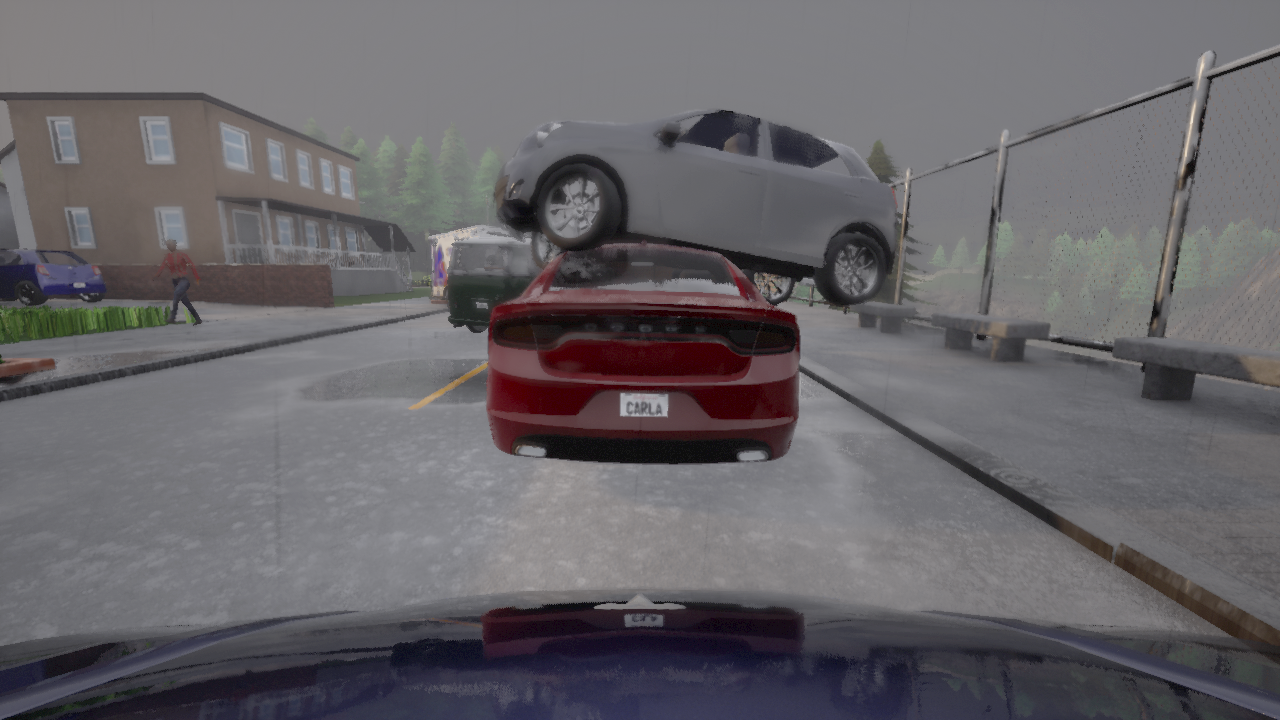cyclist: (0, 588, 1279, 719), (493, 108, 896, 305), (487, 237, 800, 463), (448, 238, 542, 331), (429, 226, 532, 308), (0, 248, 106, 305)
pedestrian: (151, 238, 203, 326)
